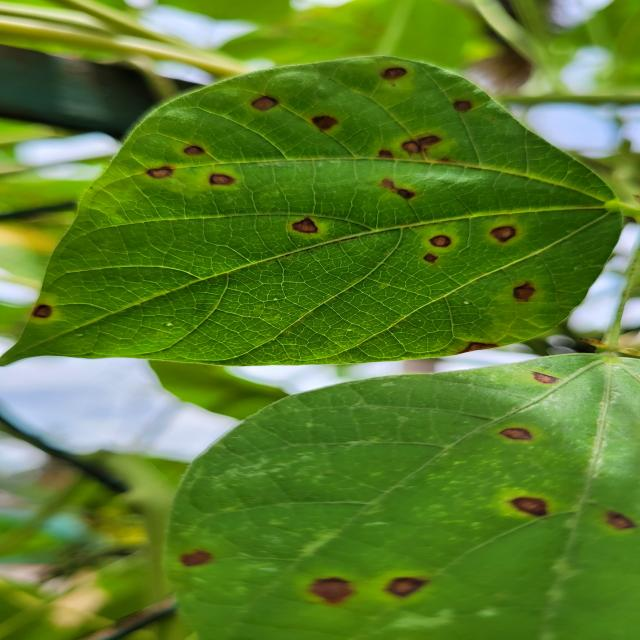Dolicos bean_cercospora leaf spot: (0, 59, 637, 365), (161, 354, 640, 640)
